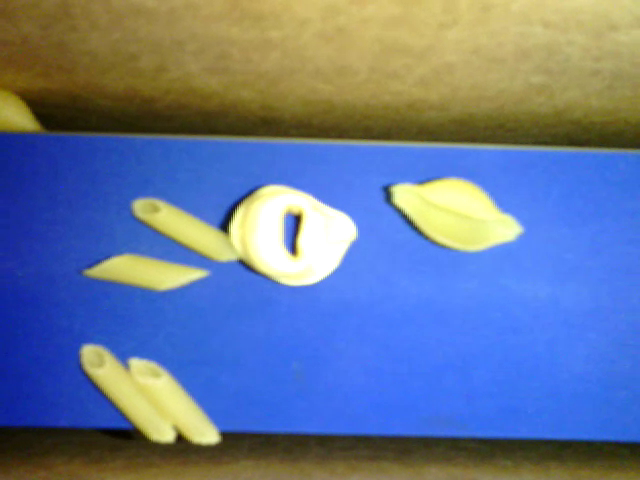penne: (80, 343, 175, 442), (129, 356, 222, 446), (131, 198, 243, 262), (83, 253, 210, 295)
shell: (389, 176, 522, 254)
tortellini: (230, 183, 356, 287)
